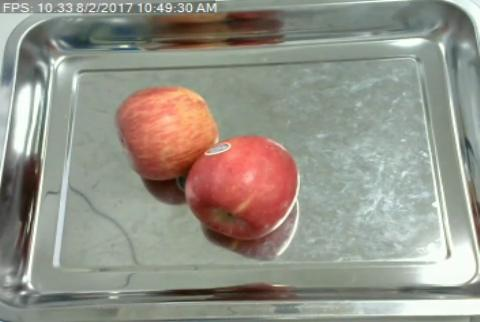apple: (186, 135, 299, 241), (114, 86, 218, 179)
